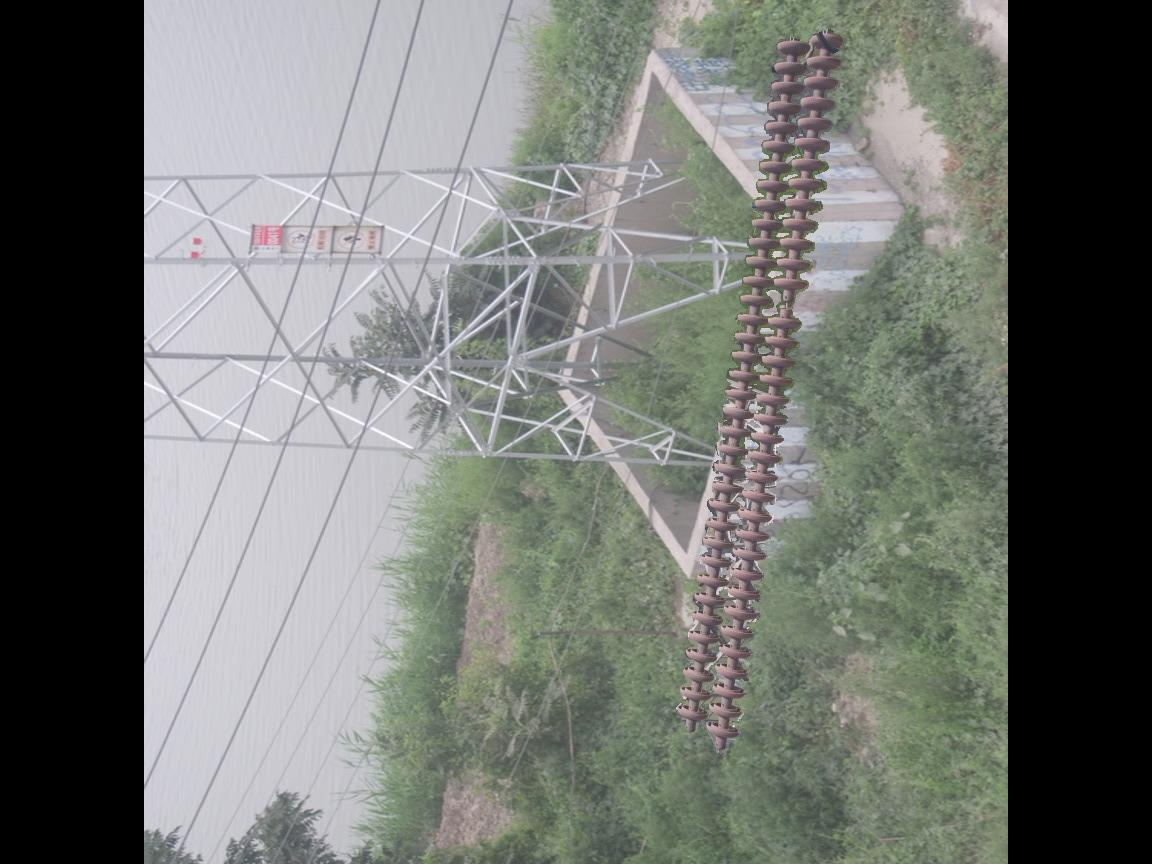insulator: (674, 25, 853, 747)
insulator_stringdrop: (765, 275, 810, 331)
